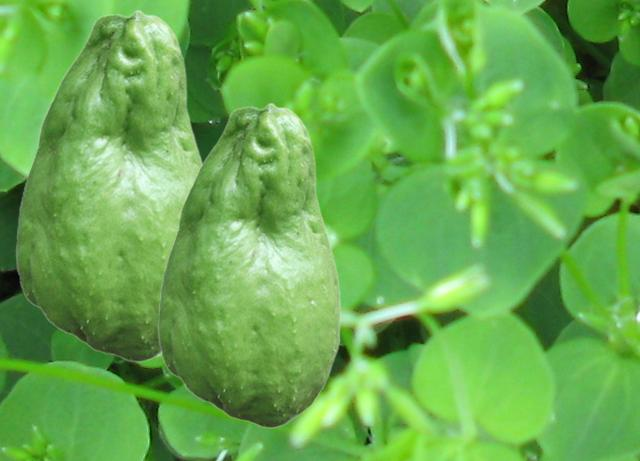sayote: (15, 9, 203, 361), (157, 102, 340, 427)
